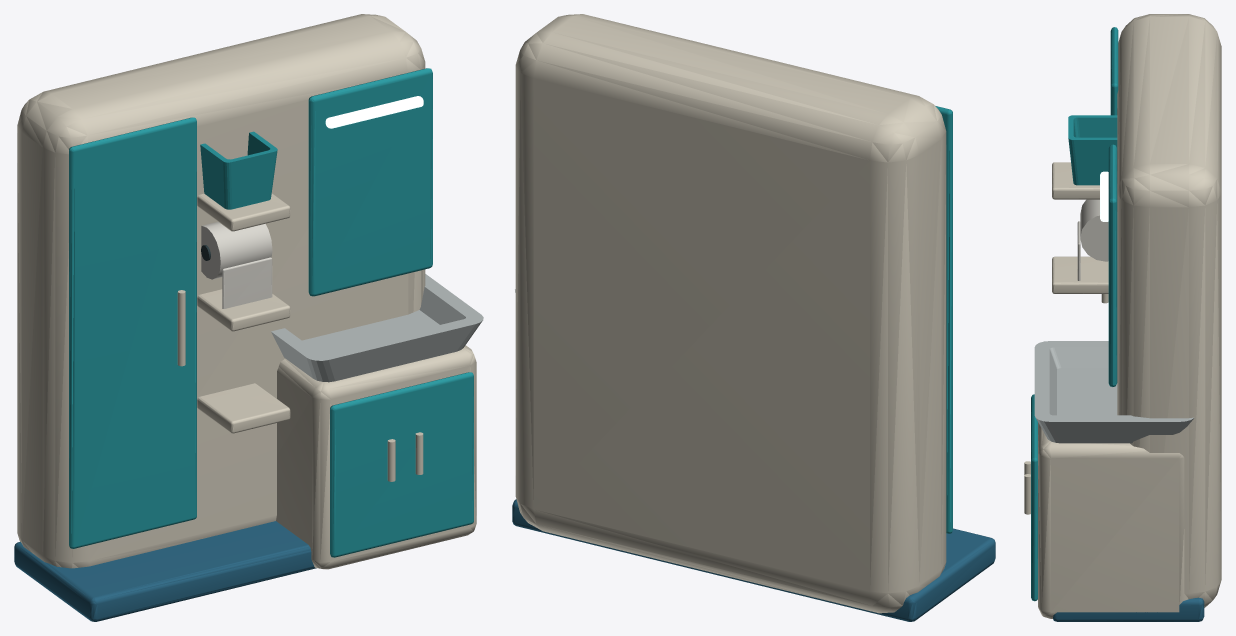
The model's file is 10_advanced_integrated_station.glb.
3 views of the same model, side by side, from view 1: azimuth 30°, elevation 25°; view 2: azimuth 150°, elevation 25°; view 3: azimuth 270°, elevation 25° (orthographic). The views are drawn at different scales.
Visible parts, largest first — view 1: 10_advanced_integrated_station__Static; view 2: 10_advanced_integrated_station__Static; view 3: 10_advanced_integrated_station__Static.
Part boxes in pixels (x1,y1,x2,y2): 10_advanced_integrated_station__Static: [14, 14, 483, 621]; 10_advanced_integrated_station__Static: [512, 14, 995, 621]; 10_advanced_integrated_station__Static: [1024, 14, 1221, 621].
Bounding box in the file's own units: 1.95 × 2.26 × 0.907.
